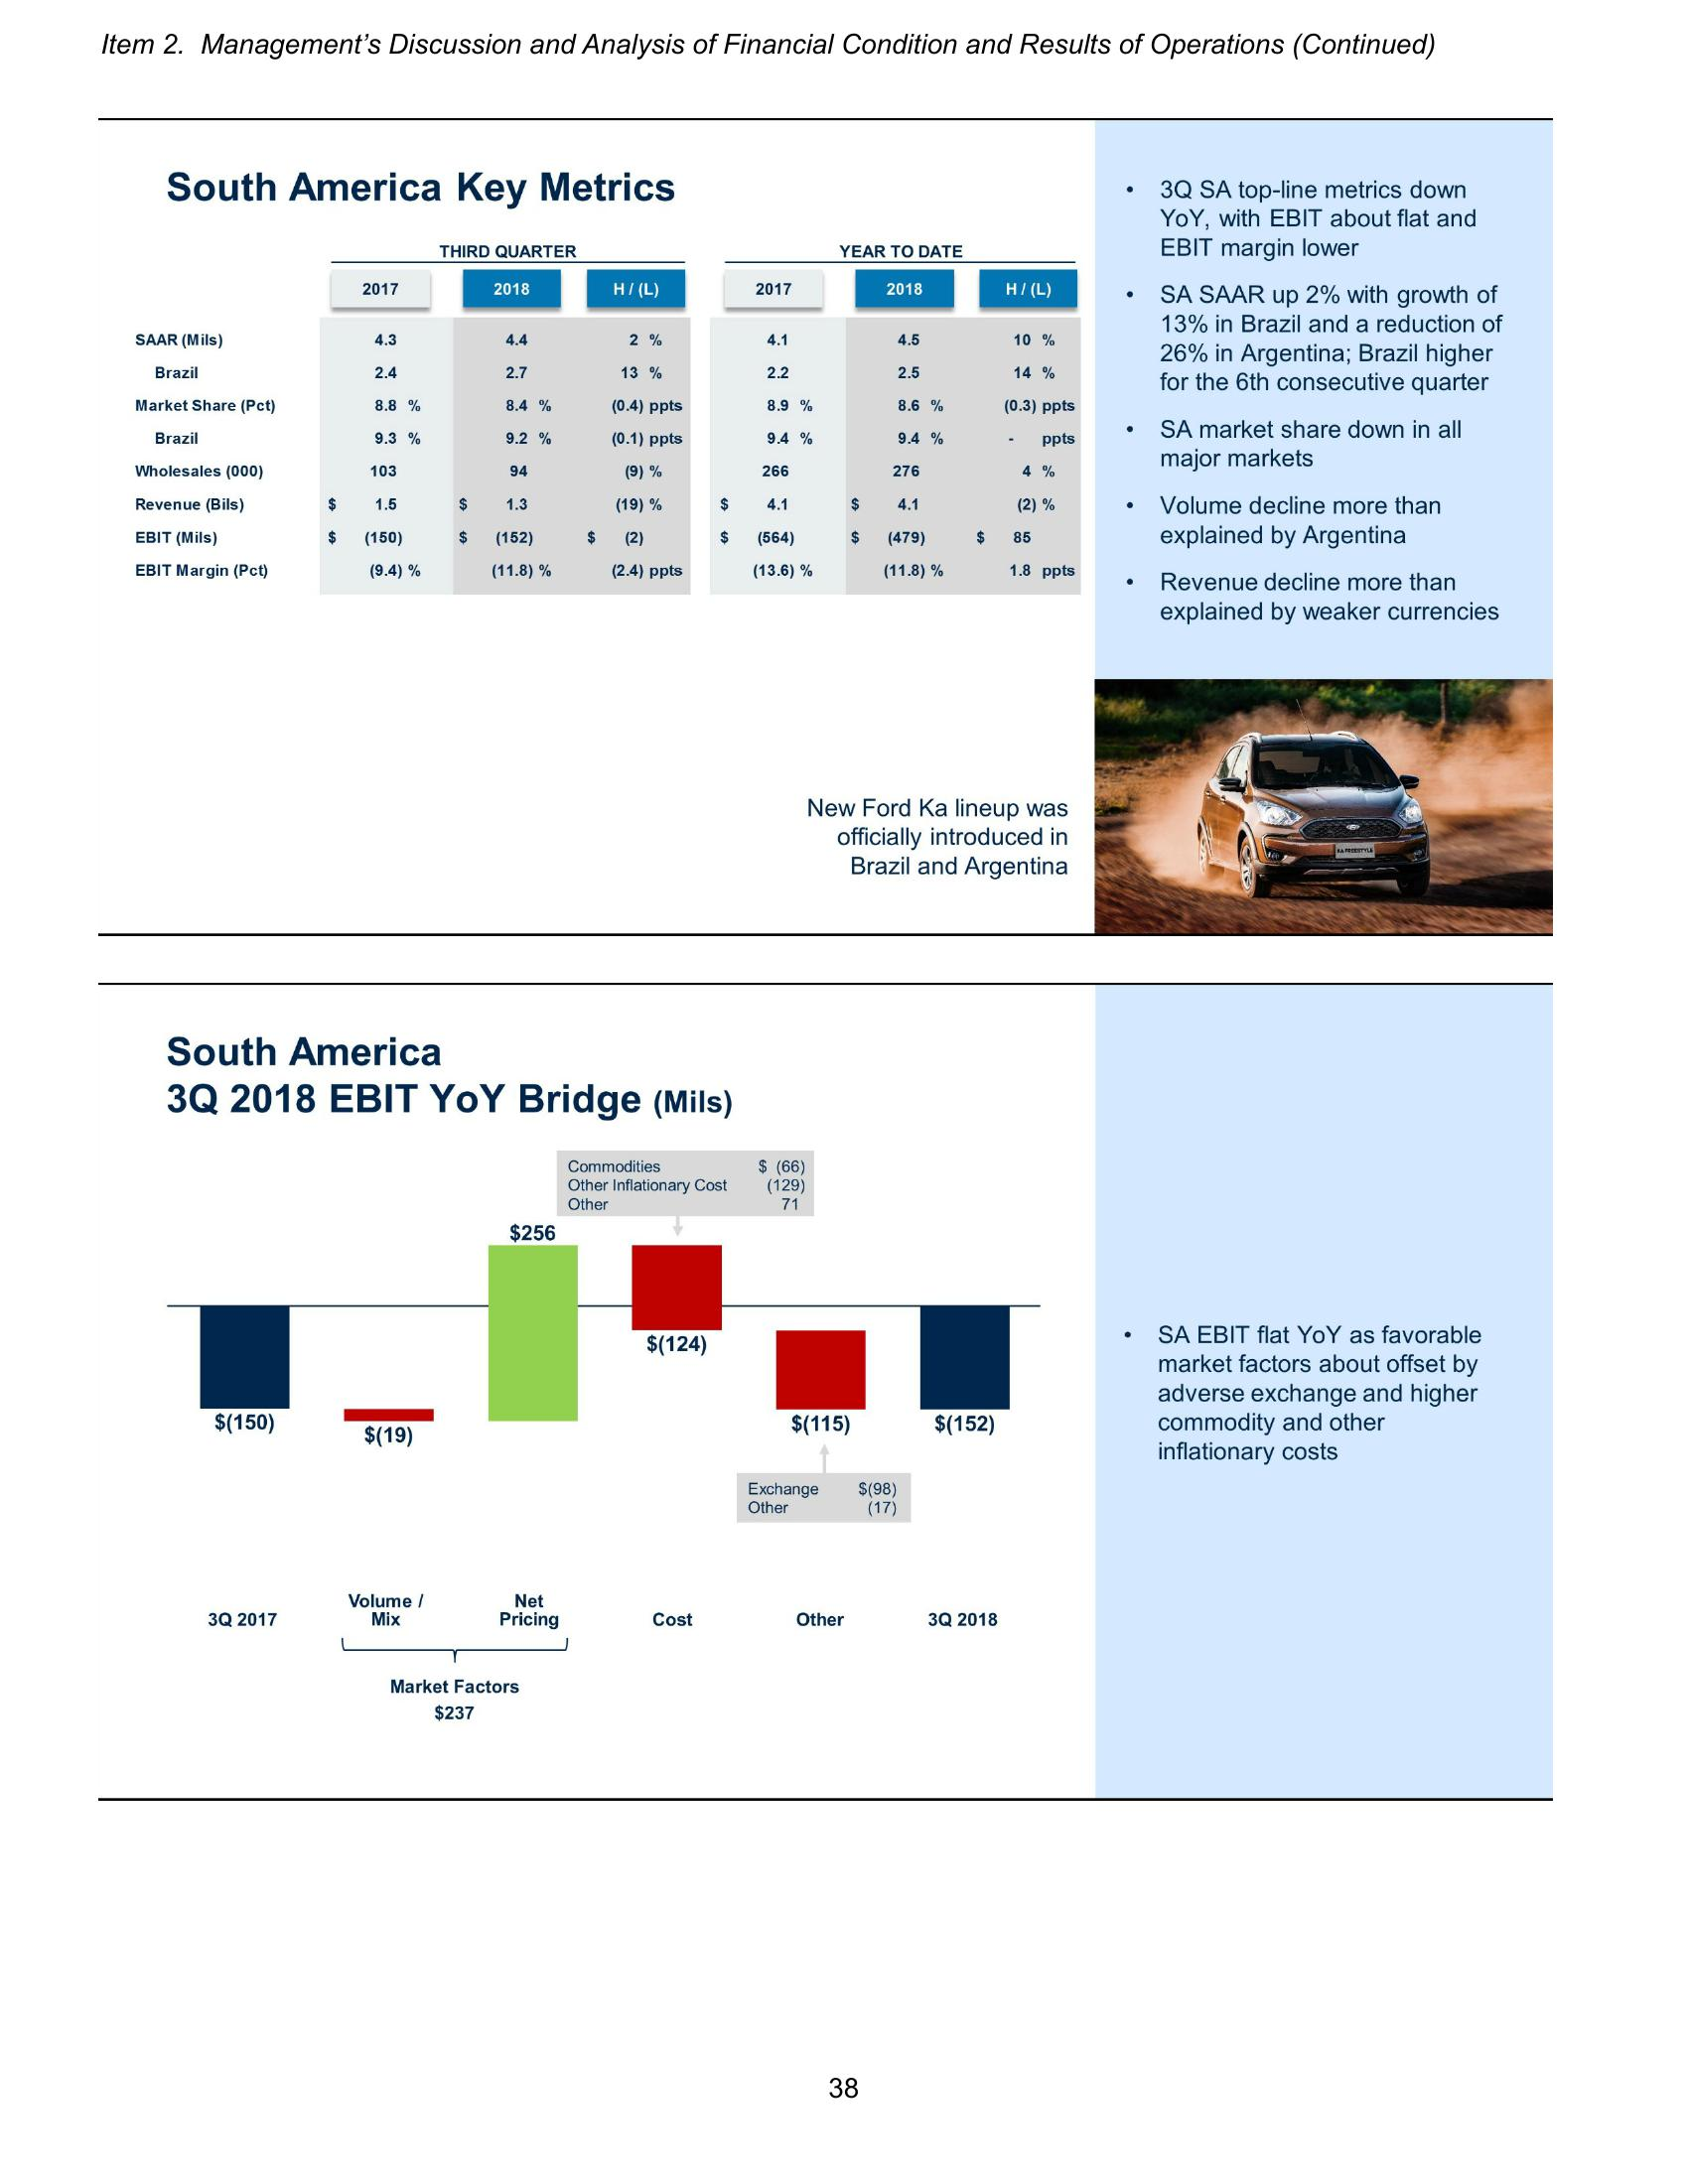table: (129, 238, 1087, 599)
